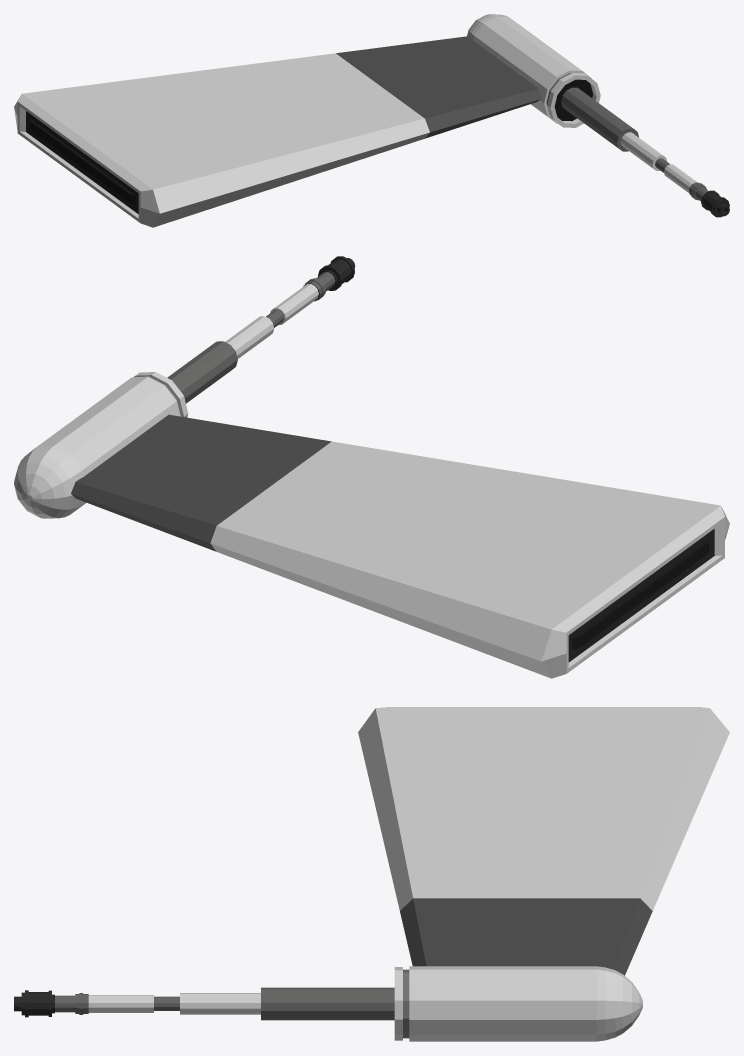
File: bwing_wing_l.glb
3 renders of one model, top to bottom at view 1: azimuth 30°, elevation 25°; view 2: azimuth 150°, elevation 25°; view 3: azimuth 270°, elevation 25°, orthographic. The views are drawn at different scales.
Visible parts, largest first — view 1: bwing_wing_l; view 2: bwing_wing_l; view 3: bwing_wing_l.
Boxes of the visible parts, box(x1,y1,x2,y2) form: bwing_wing_l: box(14, 14, 729, 227); bwing_wing_l: box(14, 256, 729, 678); bwing_wing_l: box(14, 707, 729, 1041).
Size of the model in its own units: 4.88 by 0.541 by 5.13.
Materials: 2 (2 with a texture image).
